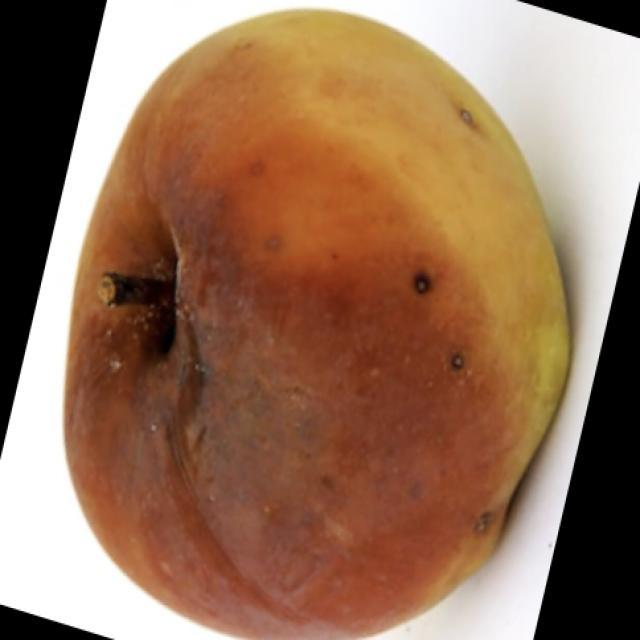Rotten: (87, 14, 560, 638)
